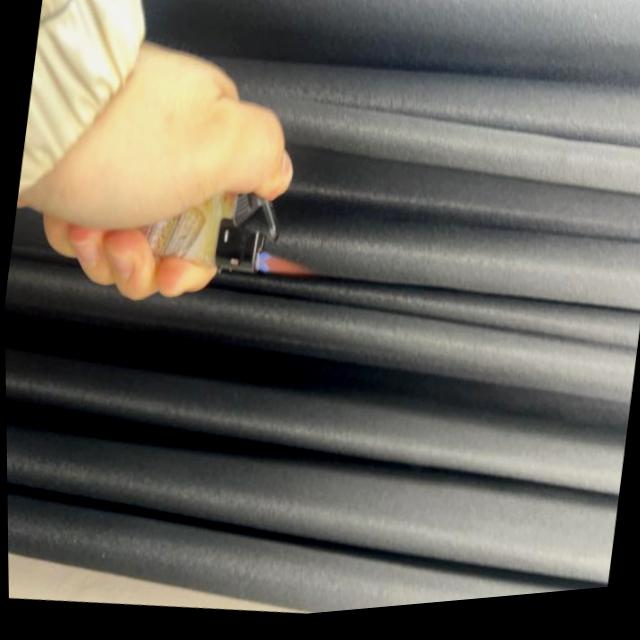helmet: (250, 251, 316, 291)
